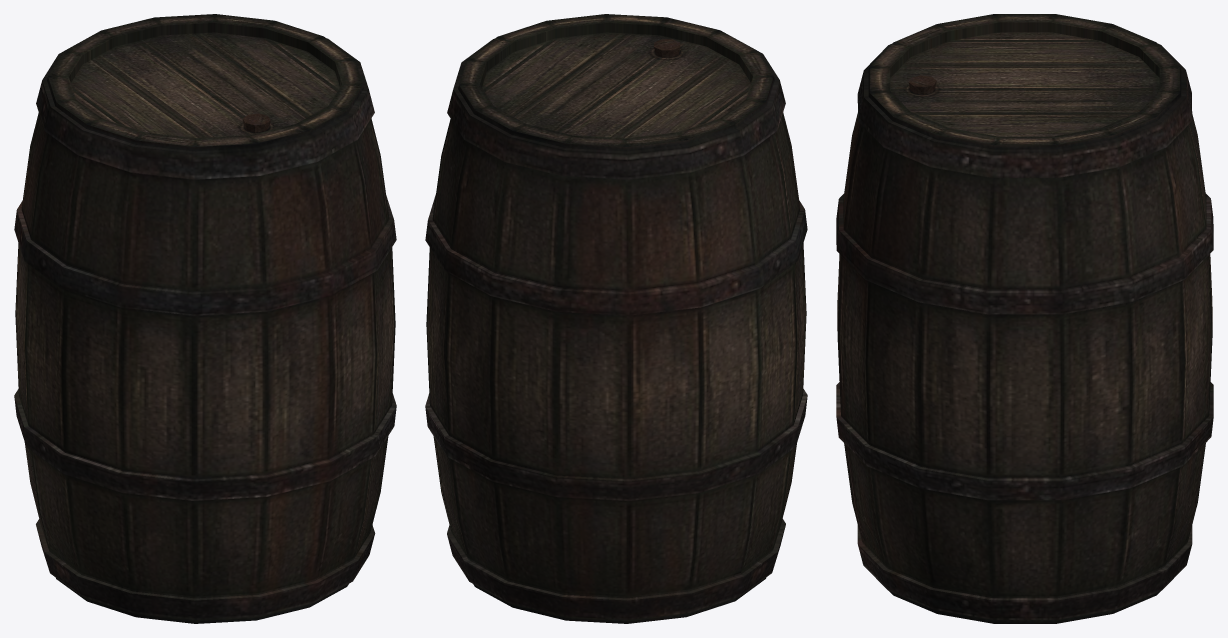
Rendered from wooden_barrel_1.obj.
3 views of the same model, side by side, from view 1: azimuth 30°, elevation 25°; view 2: azimuth 150°, elevation 25°; view 3: azimuth 270°, elevation 25° (orthographic).
Parts seen in each view (by area): view 1: wooden_barrel_1; view 2: wooden_barrel_1; view 3: wooden_barrel_1.
Boxes of the visible parts, <box> form: wooden_barrel_1: <box>14,14,396,623</box>; wooden_barrel_1: <box>425,14,807,623</box>; wooden_barrel_1: <box>836,14,1213,623</box>.
Size of the model in its own units: 0.7148 by 1 by 0.7148.
